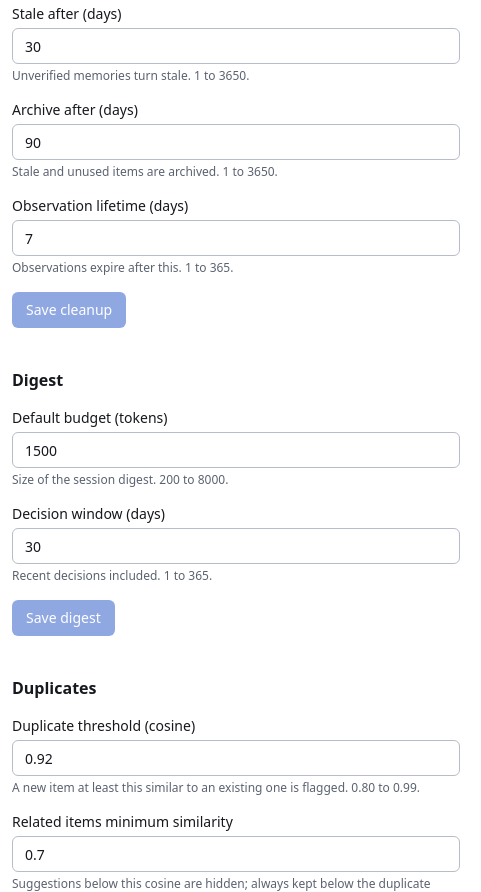
it: SettingsForm › maps server issues under settings.* back to the field
The image size is (481, 892).
(page scrolled)
Replace the text in the number field labelled "Default budget (tokens)" with "4000" at [236, 450], box left=12, top=432, right=460, bottom=468
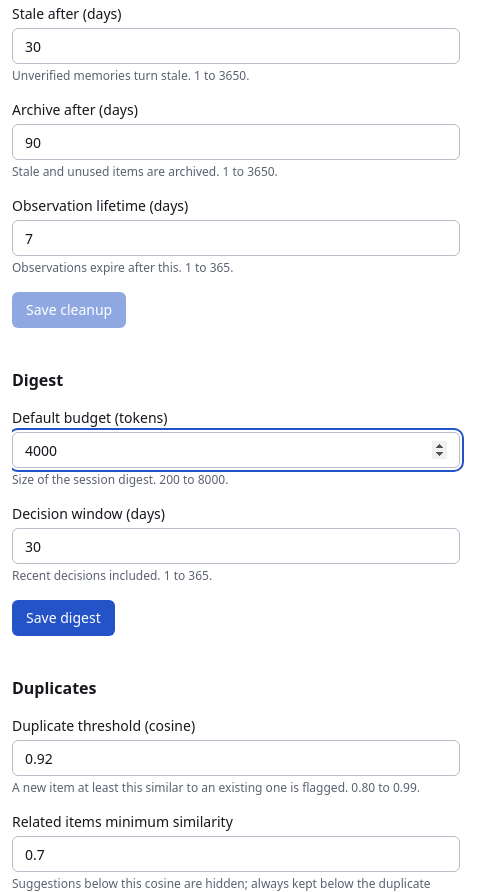
Click the button "Save digest" at [63, 618], box left=12, top=600, right=115, bottom=636
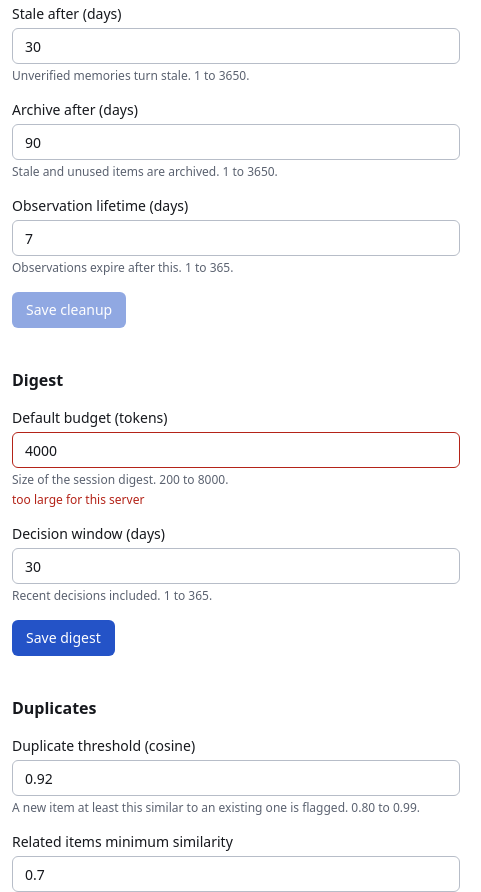
Now the text "too large for this server" is shown, box left=12, top=491, right=144, bottom=508
